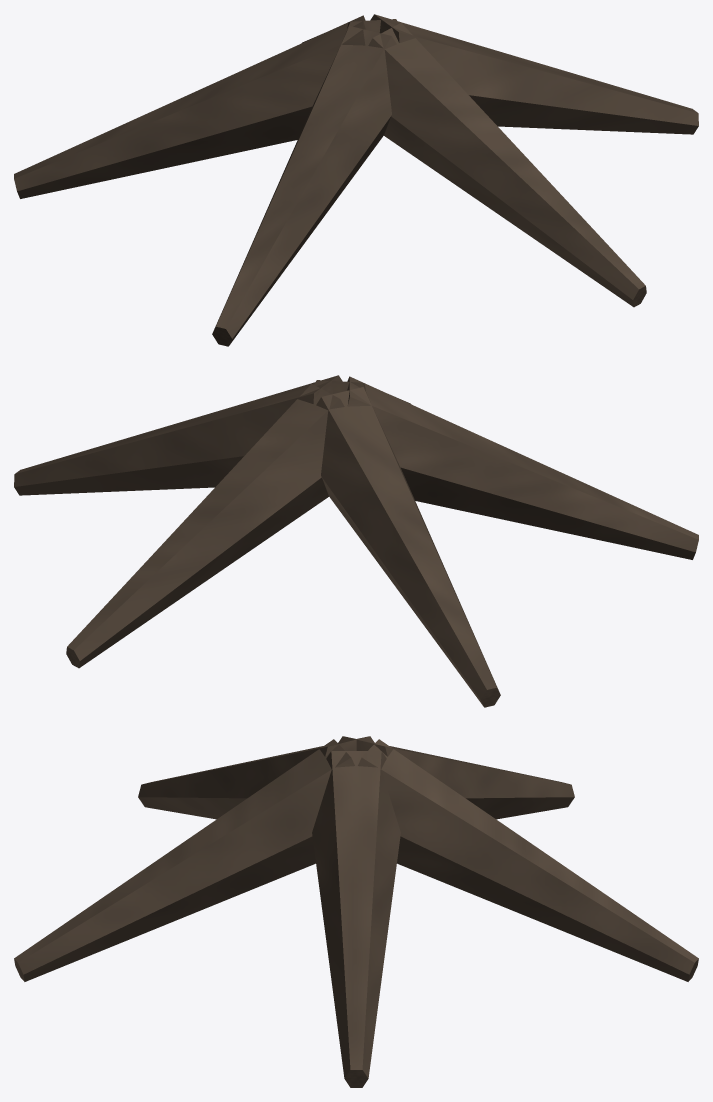
The model's file is root_cluster_02.fbx.
The picture shows the model from 3 angles, top to bottom: view 1: azimuth 30°, elevation 25°; view 2: azimuth 150°, elevation 25°; view 3: azimuth 270°, elevation 25°; orthographic projection.
Visible parts, largest first — view 1: root_cluster_02; view 2: root_cluster_02; view 3: root_cluster_02.
Boxes of the visible parts, x1=… form: root_cluster_02: x1=14, y1=14, x2=698, y2=346; root_cluster_02: x1=14, y1=375, x2=698, y2=707; root_cluster_02: x1=14, y1=736, x2=698, y2=1087.
Bounding box in the file's own units: 199 × 60 × 200.
1 material, 1 textured.
